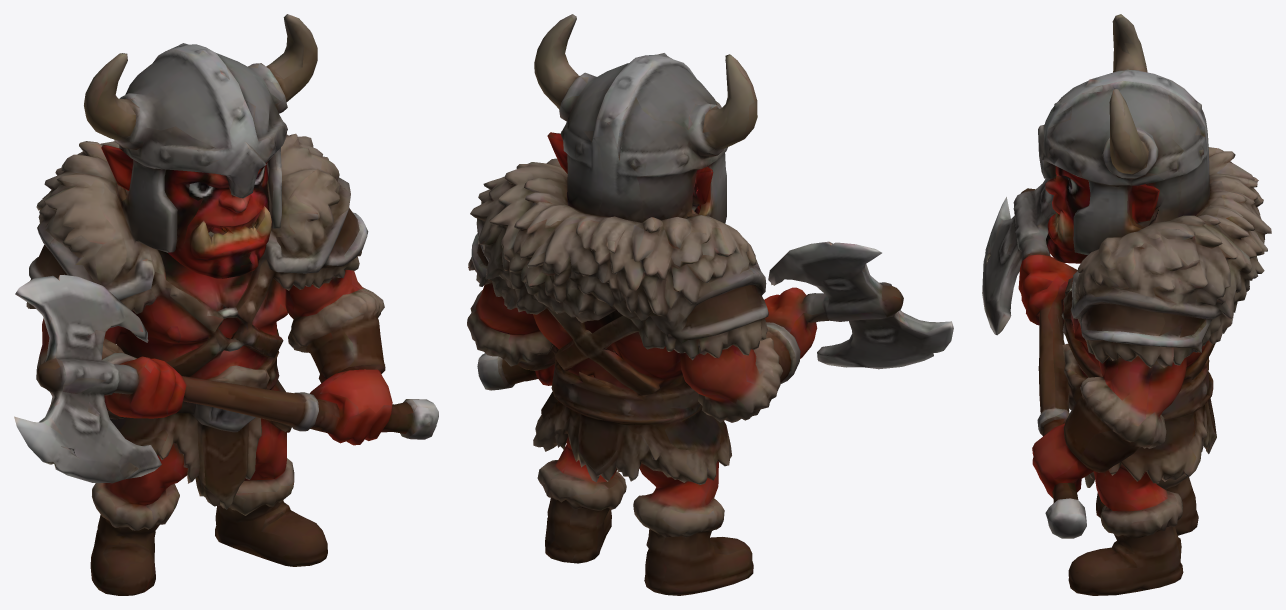
Rendered from model-hero-brute.glb.
3 views of the same model, side by side, from view 1: azimuth 30°, elevation 25°; view 2: azimuth 150°, elevation 25°; view 3: azimuth 270°, elevation 25° (orthographic). The views are drawn at different scales.
Parts seen in each view (by area): view 1: geometry_0; view 2: geometry_0; view 3: geometry_0.
Part boxes in pixels (x1,y1,x2,y2): geometry_0: (14,14,438,595); geometry_0: (467,14,953,595); geometry_0: (982,14,1271,595).
Bounding box in the file's own units: 0.8889 × 0.9991 × 0.5276.
1 material, 1 textured.
